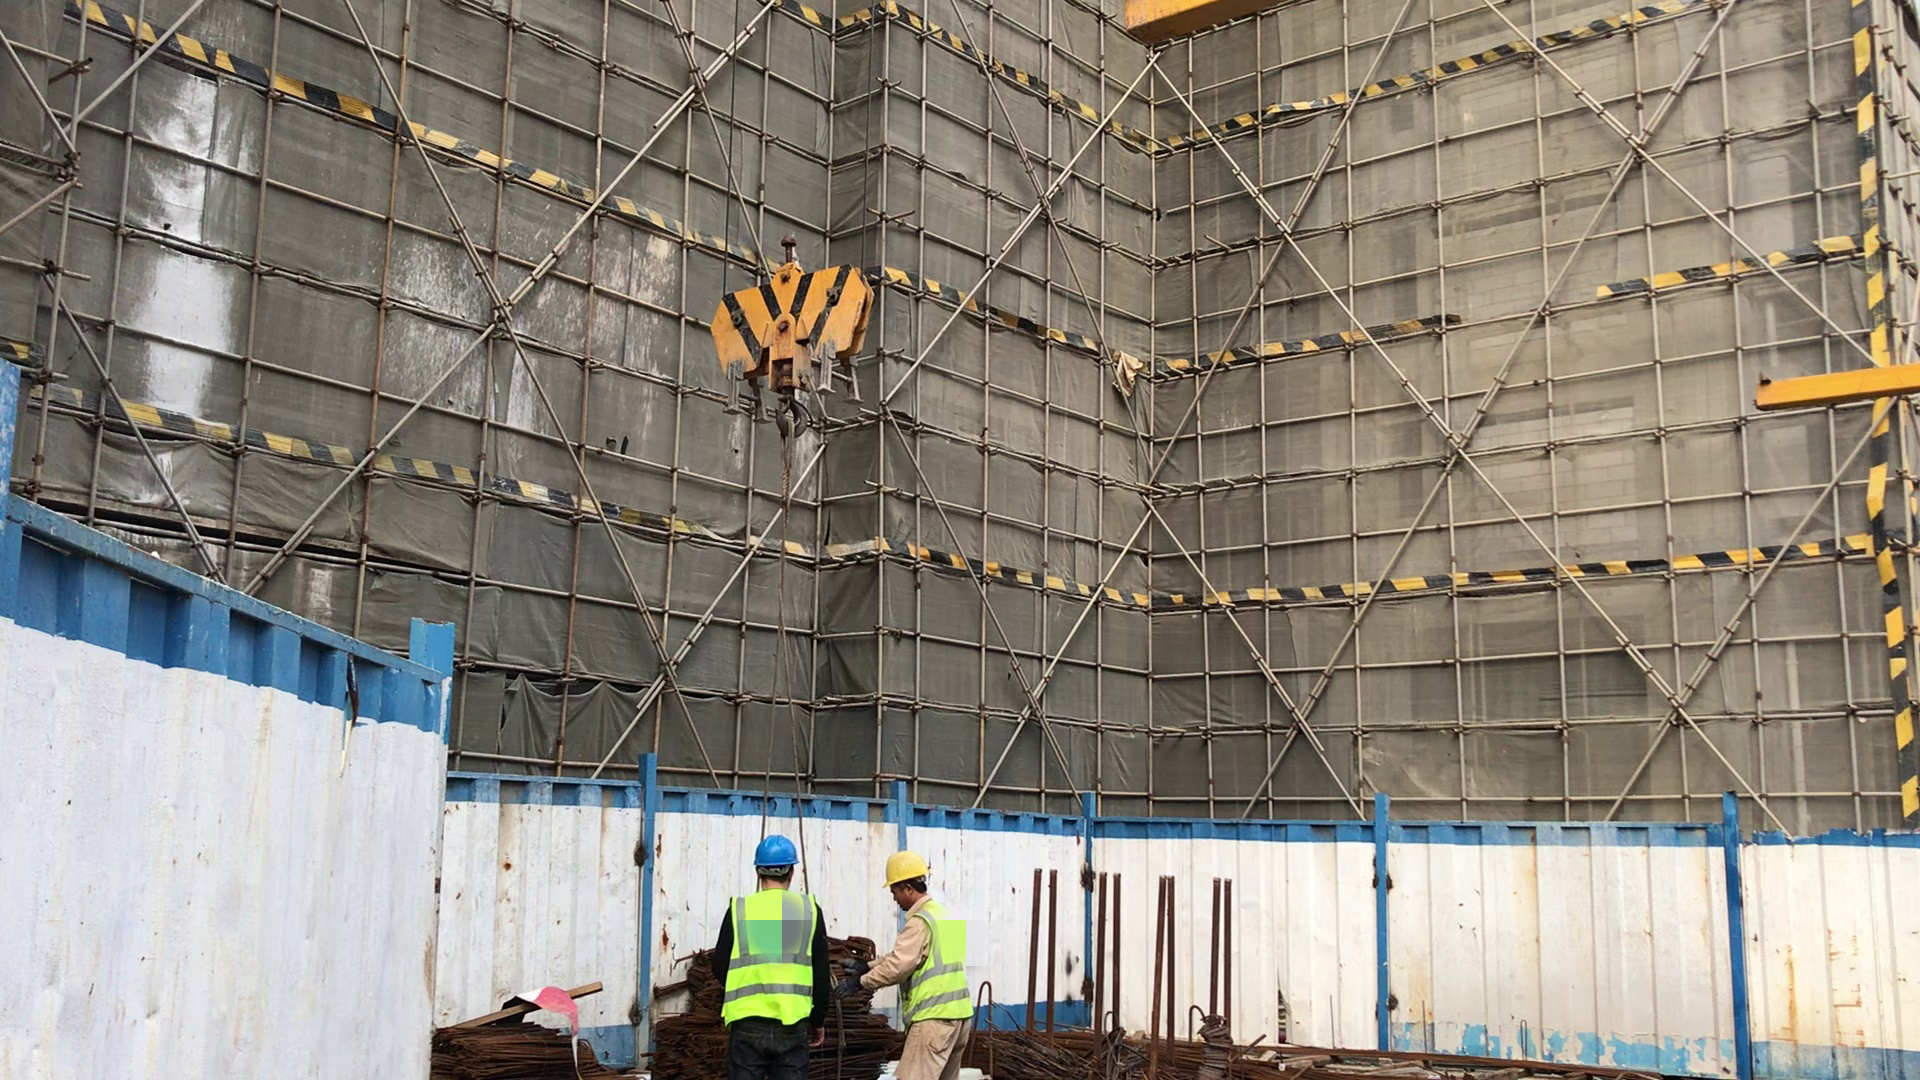helmet: (736, 832, 810, 872), (878, 853, 940, 893)
person: (710, 821, 828, 1068), (858, 835, 977, 1080)
vest: (723, 891, 809, 1028), (900, 908, 972, 1023)
